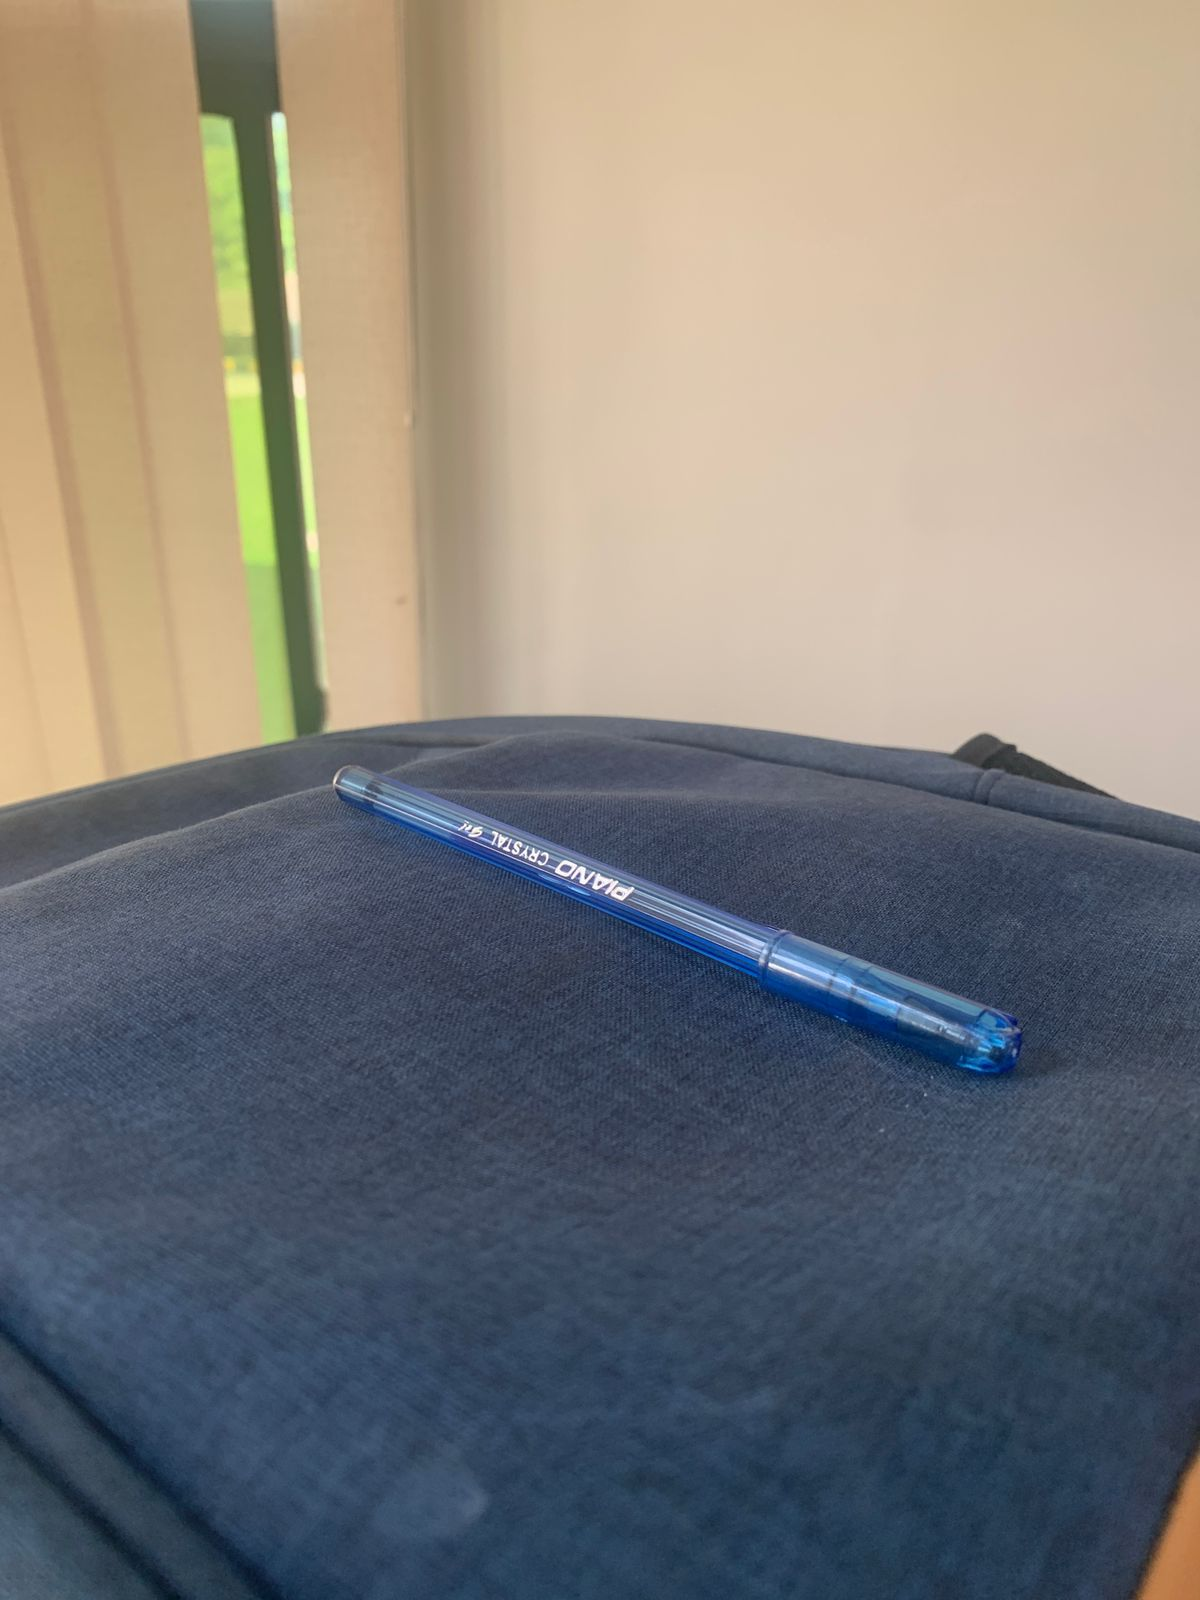pen: (246, 690, 1137, 1150)
